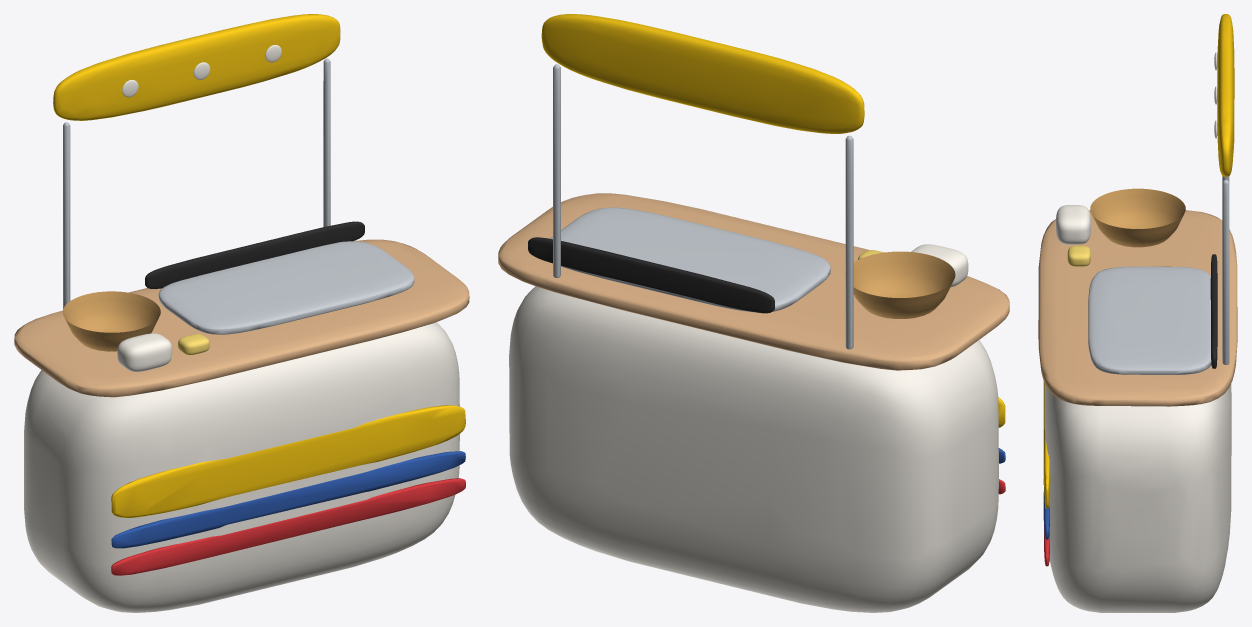
File: vitrina_arepas_2.glb
3 views of the same model, side by side, from view 1: azimuth 30°, elevation 25°; view 2: azimuth 150°, elevation 25°; view 3: azimuth 270°, elevation 25° (orthographic). The views are drawn at different scales.
Visible parts, largest first — view 1: mostrador.003, tapa.010, letrero.014, plancha, franja bandera, franja bandera.002, franja bandera.001, canasto arepas, borde plancha, bloque queso, poste letrero.002, poste letrero.003; view 2: mostrador.003, tapa.010, letrero.014, plancha, borde plancha, canasto arepas, poste letrero.002, poste letrero.003, bloque queso; view 3: mostrador.003, tapa.010, plancha, canasto arepas, letrero.014, poste letrero.003, bloque queso, borde plancha, franja bandera, mantequilla.001.
Part boxes in pixels (<box>): mostrador.003: <box>24,322,459,612</box>; tapa.010: <box>14,239,469,397</box>; letrero.014: <box>53,14,340,120</box>; plancha: <box>158,241,414,334</box>; franja bandera: <box>111,405,465,517</box>; franja bandera.002: <box>111,478,465,575</box>; franja bandera.001: <box>111,451,465,548</box>; canasto arepas: <box>62,291,160,351</box>; borde plancha: <box>145,221,364,288</box>; bloque queso: <box>117,333,172,371</box>; poste letrero.002: <box>63,122,70,308</box>; poste letrero.003: <box>323,58,330,226</box>; mostrador.003: <box>509,286,998,612</box>; tapa.010: <box>498,193,1009,370</box>; letrero.014: <box>541,14,864,133</box>; plancha: <box>550,207,830,312</box>; borde plancha: <box>528,237,774,313</box>; canasto arepas: <box>845,251,955,318</box>; poste letrero.002: <box>845,135,853,349</box>; poste letrero.003: <box>553,64,560,277</box>; bloque queso: <box>911,244,968,287</box>; mostrador.003: <box>1044,383,1231,612</box>; tapa.010: <box>1038,210,1237,406</box>; plancha: <box>1088,266,1211,374</box>; canasto arepas: <box>1090,188,1185,247</box>; letrero.014: <box>1217,14,1234,176</box>; poste letrero.003: <box>1222,180,1229,364</box>; bloque queso: <box>1056,205,1090,244</box>; borde plancha: <box>1210,254,1217,368</box>; franja bandera: <box>1043,381,1050,508</box>; mantequilla.001: <box>1067,246,1090,266</box>.
Bounding box in the file's own units: 1.54 × 1.83 × 0.6793.
